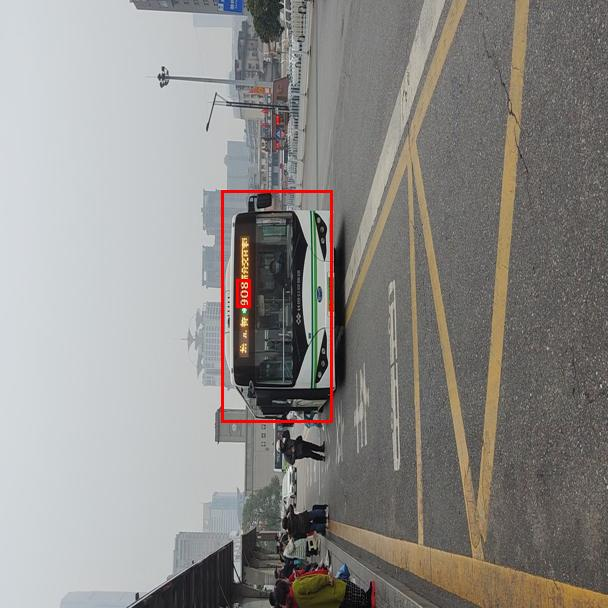bus: (221, 190, 332, 422)
screen: (236, 279, 250, 307)
